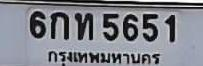1: (164, 14, 174, 42)
5: (102, 13, 118, 40), (142, 13, 157, 41)
6: (29, 10, 45, 37), (122, 13, 137, 40)
A01: (50, 11, 68, 39)
A23: (74, 12, 92, 39)
BKK: (43, 47, 162, 66)
